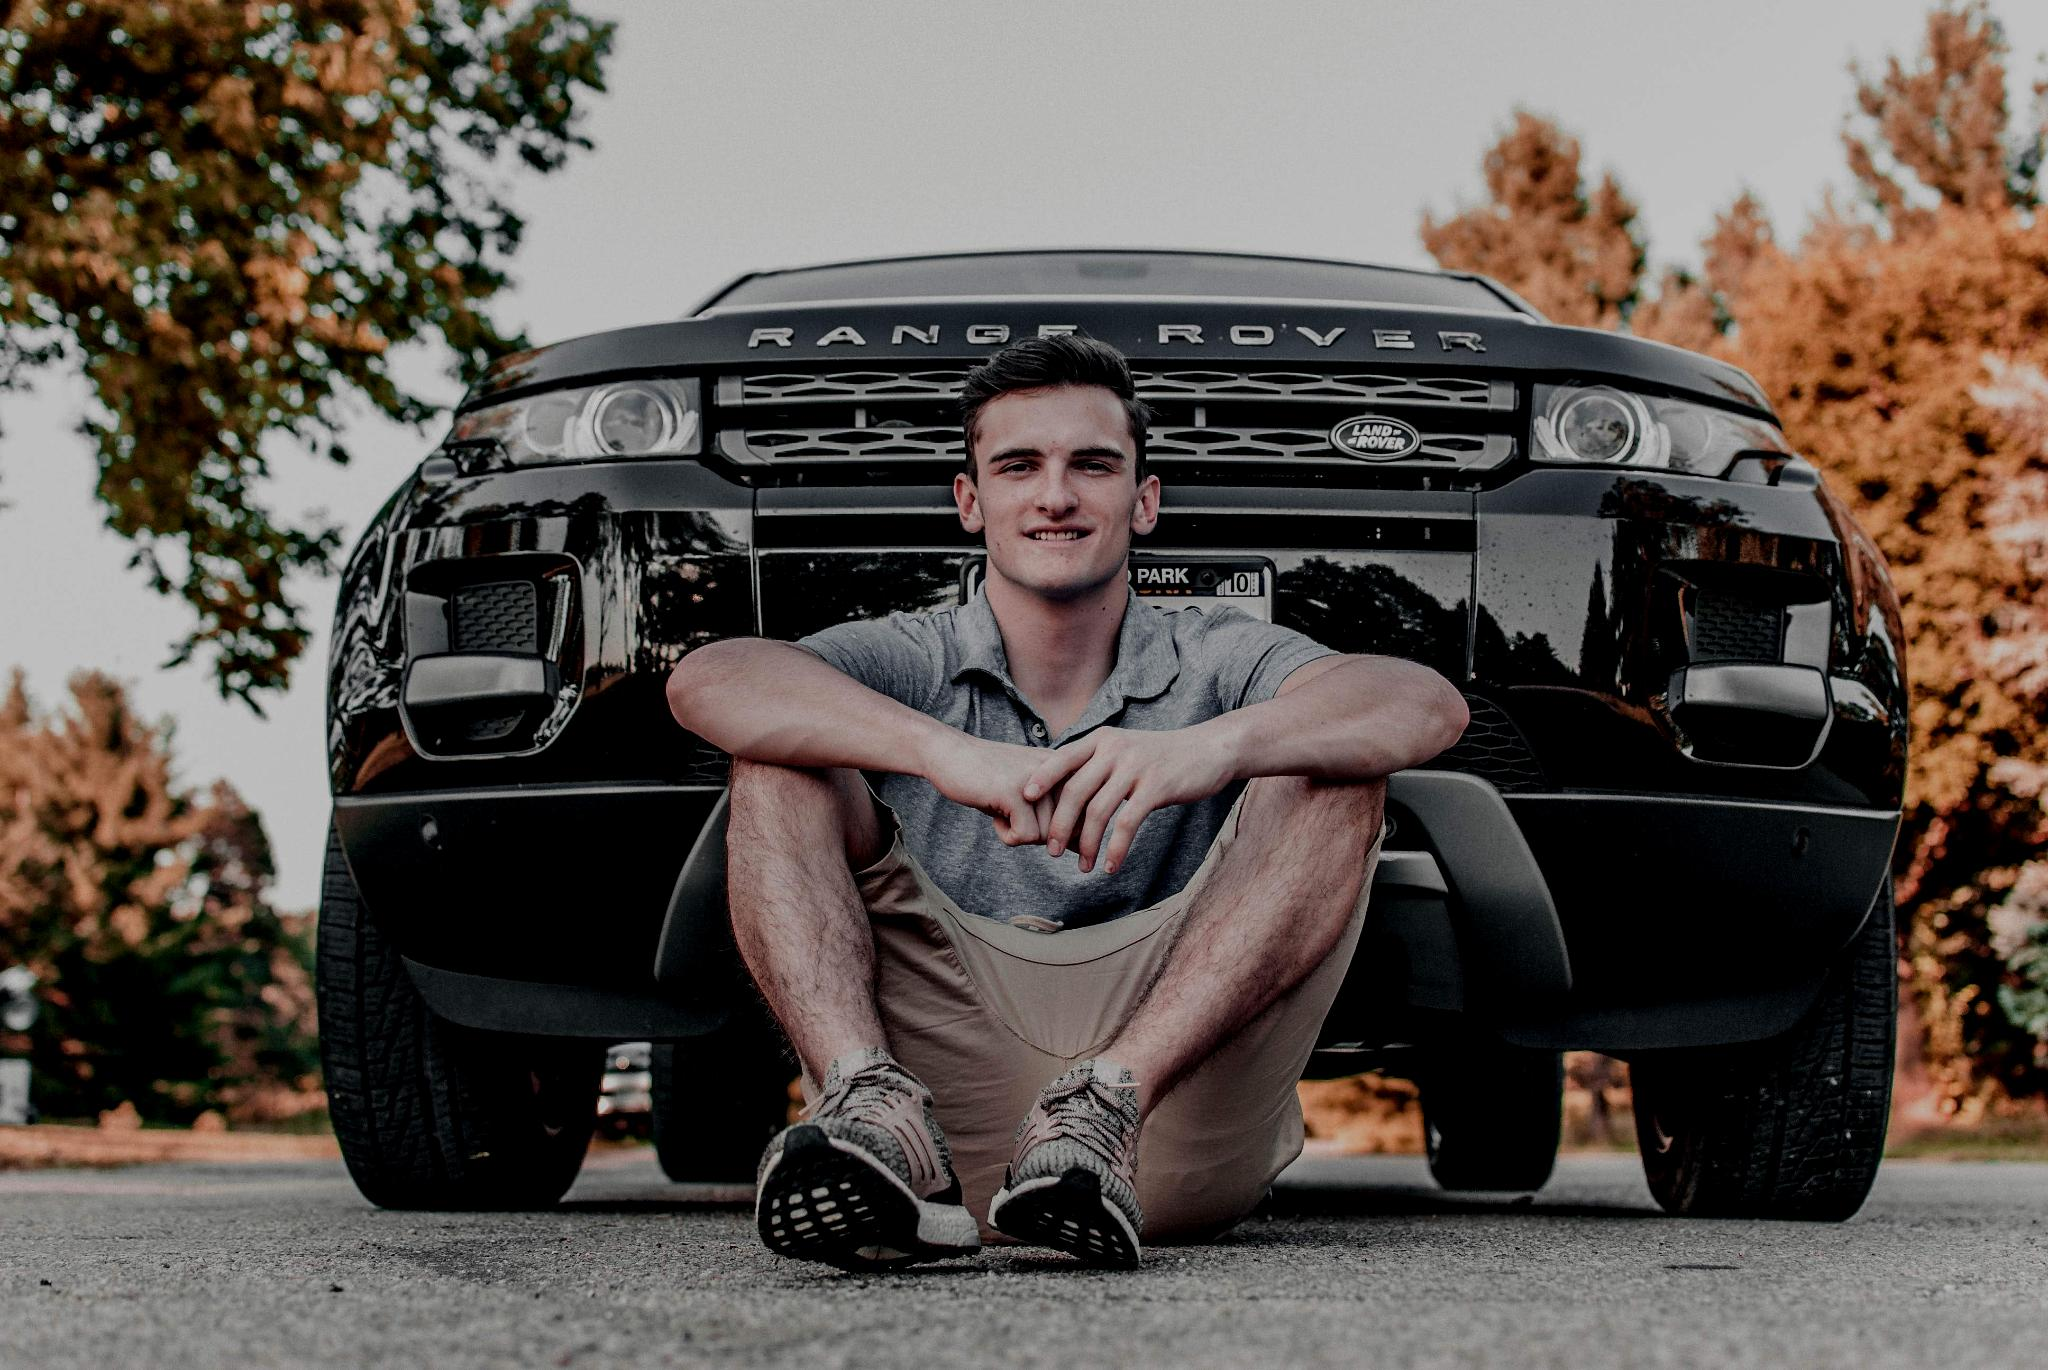range rover: (724, 297, 1505, 381)
